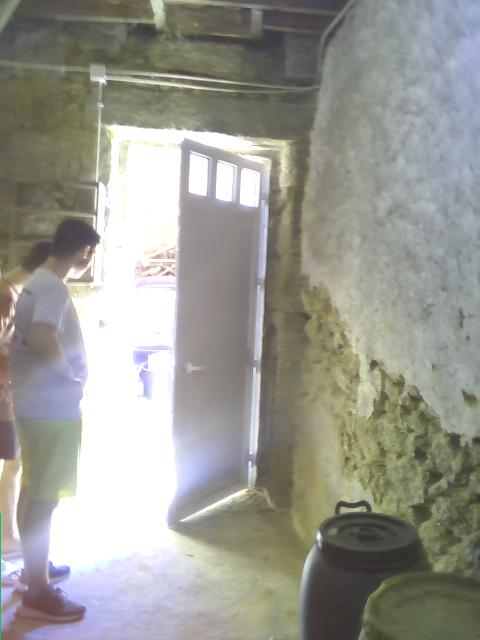semi_door: (112, 133, 277, 531)
